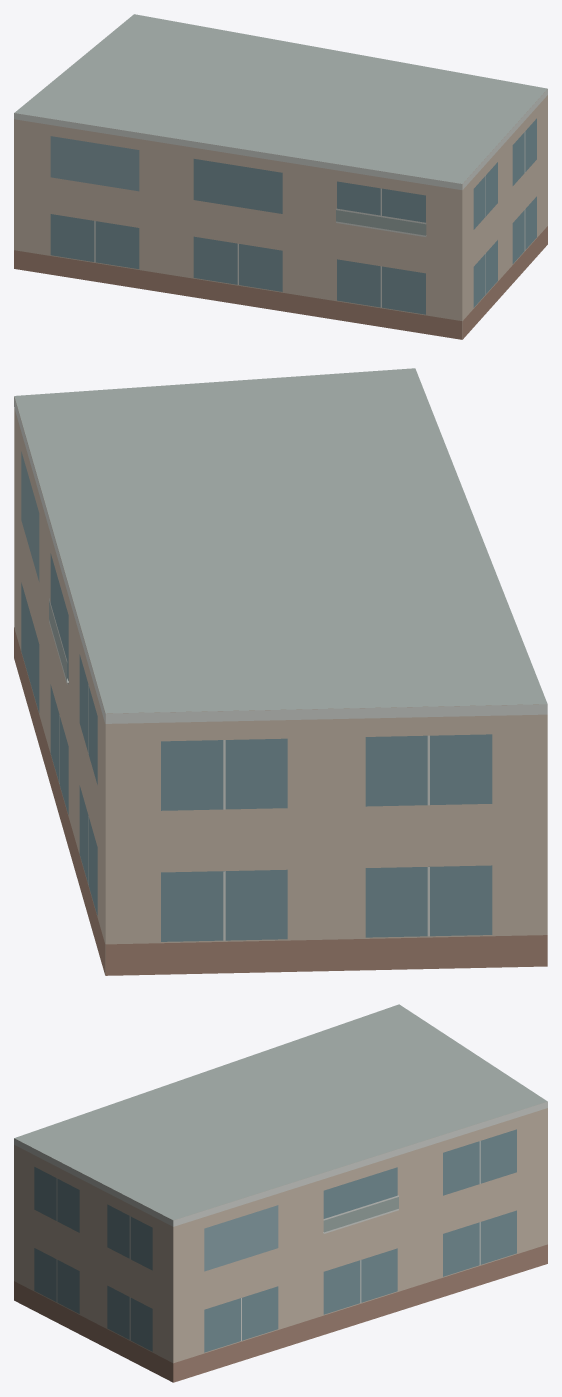
File: survey-upis-32625957.glb
3 views of the same model, one above another, from view 1: azimuth 30°, elevation 25°; view 2: azimuth 150°, elevation 25°; view 3: azimuth 270°, elevation 25° (orthographic). The views are drawn at different scales.
Parts seen in each view (by area): view 1: survey-upis-32625957.tmp; view 2: survey-upis-32625957.tmp; view 3: survey-upis-32625957.tmp.
Boxes of the visible parts, bbox=[...] form: survey-upis-32625957.tmp: bbox=[14, 14, 547, 339]; survey-upis-32625957.tmp: bbox=[14, 368, 547, 975]; survey-upis-32625957.tmp: bbox=[14, 1004, 547, 1382].
Size of the model in its own units: 17.44 by 6.1 by 18.19.
